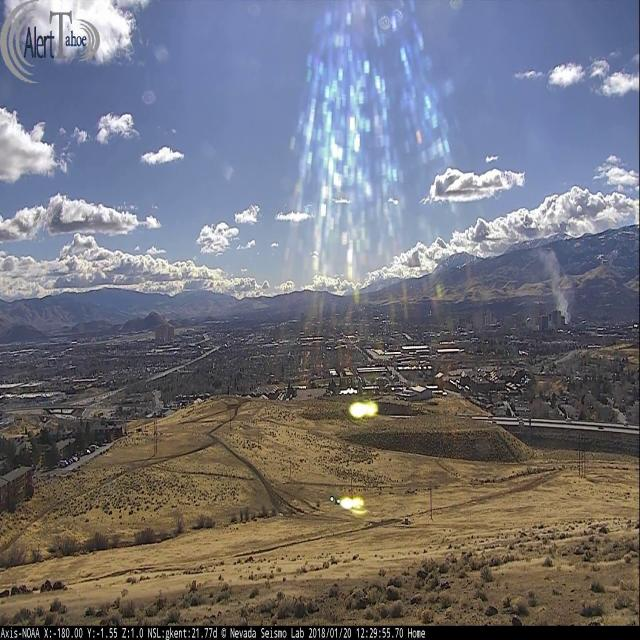smoke: (530, 237, 574, 331)
